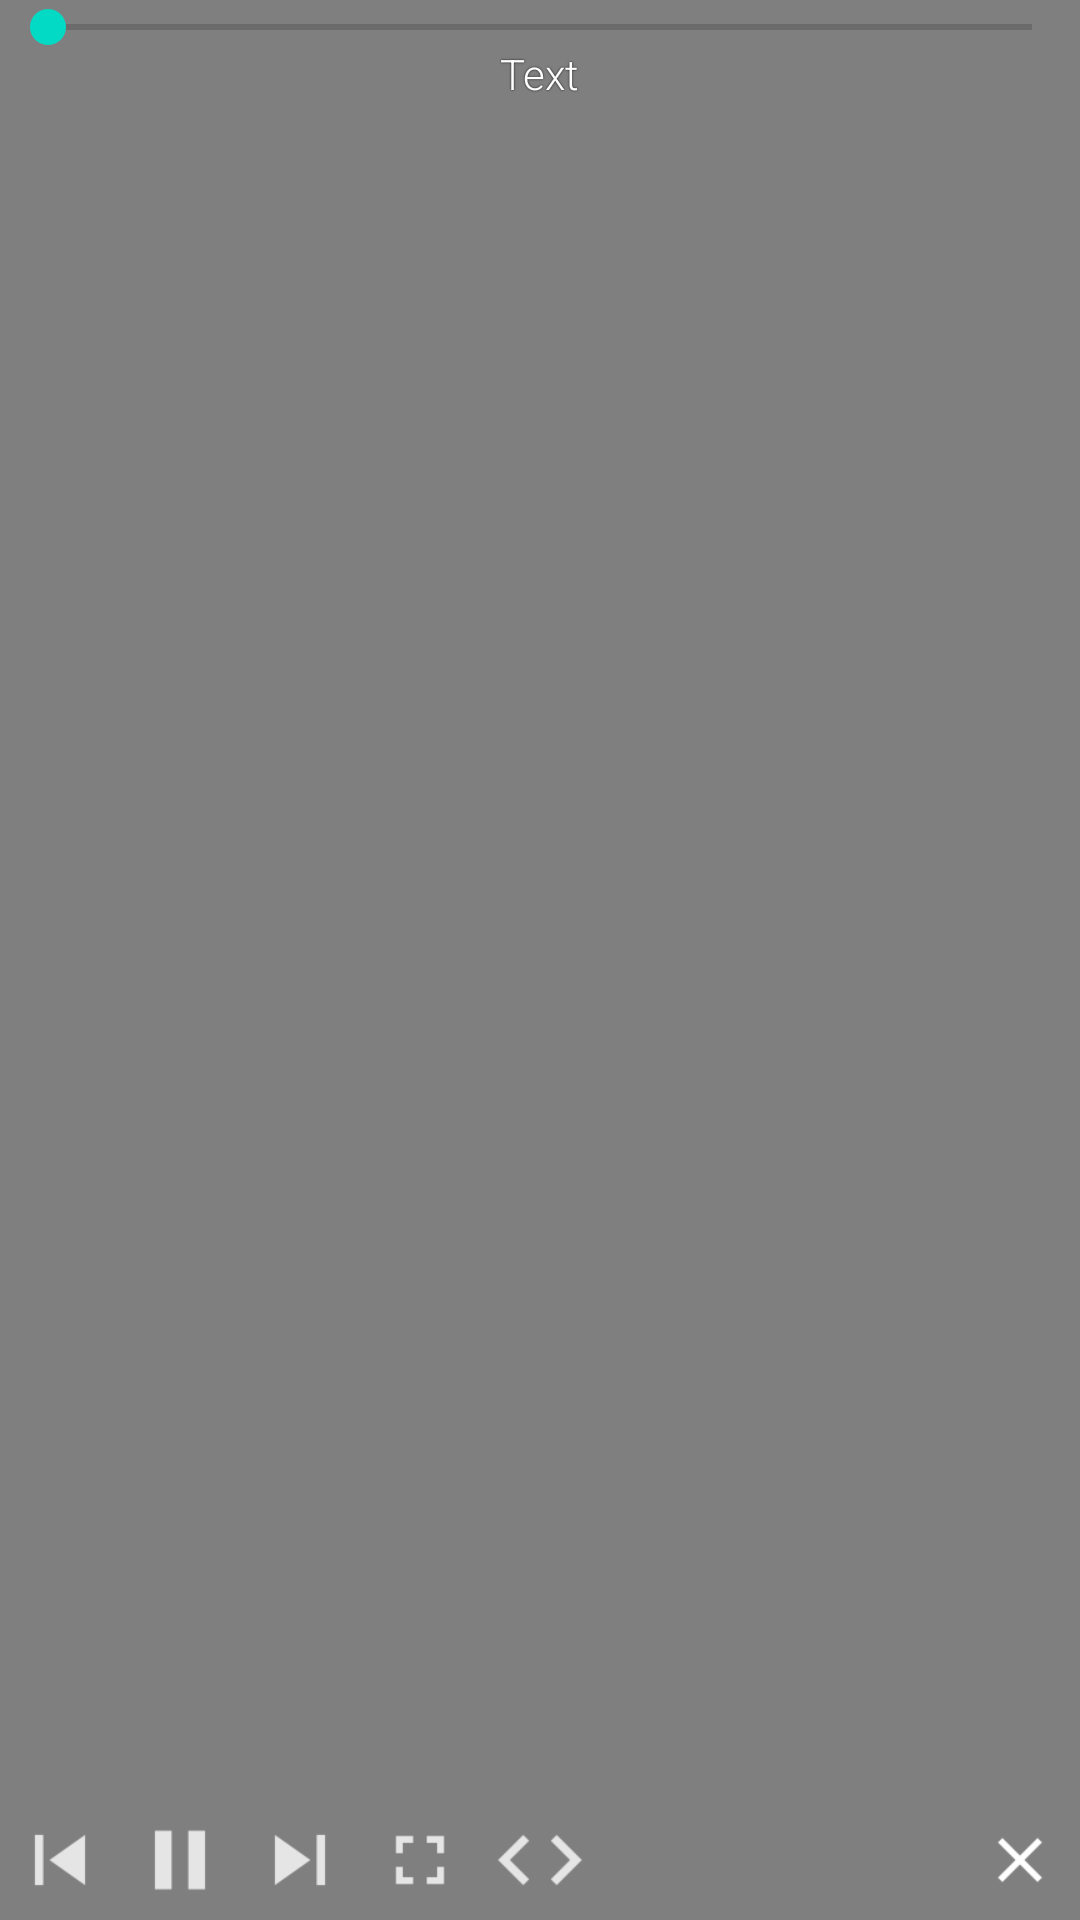

Screen size 1080 x 1920. Icon name, then its center in pixels as [x,y]:
close: [1020,1860]
gofull: [420,1860]
next: [300,1860]
pause: [180,1860]
prev: [60,1860]
resize: [540,1860]
